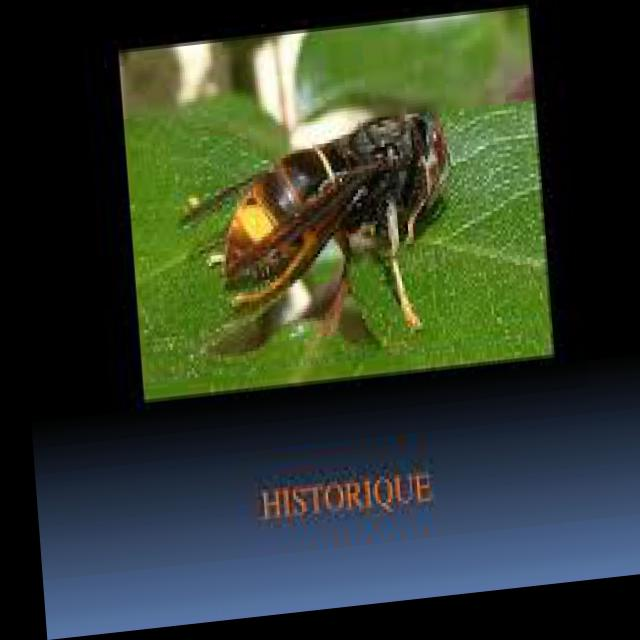Vespa Velutina: (164, 97, 465, 373)
